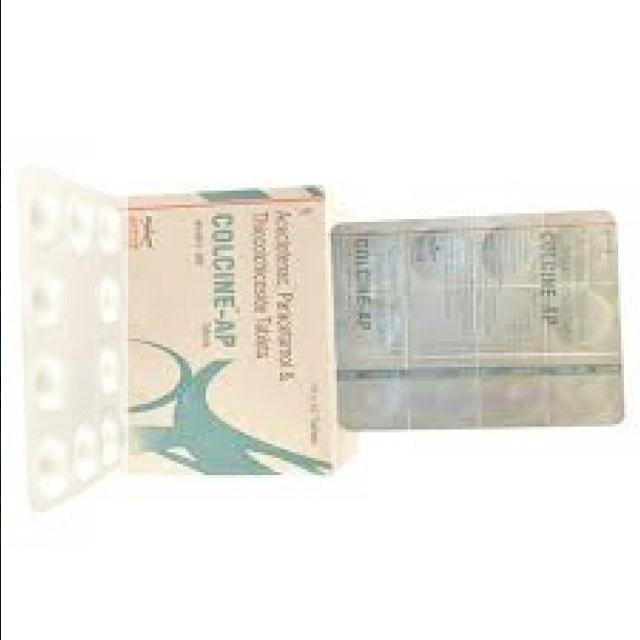authentic: (331, 198, 629, 446), (122, 173, 341, 483), (9, 154, 127, 517)
